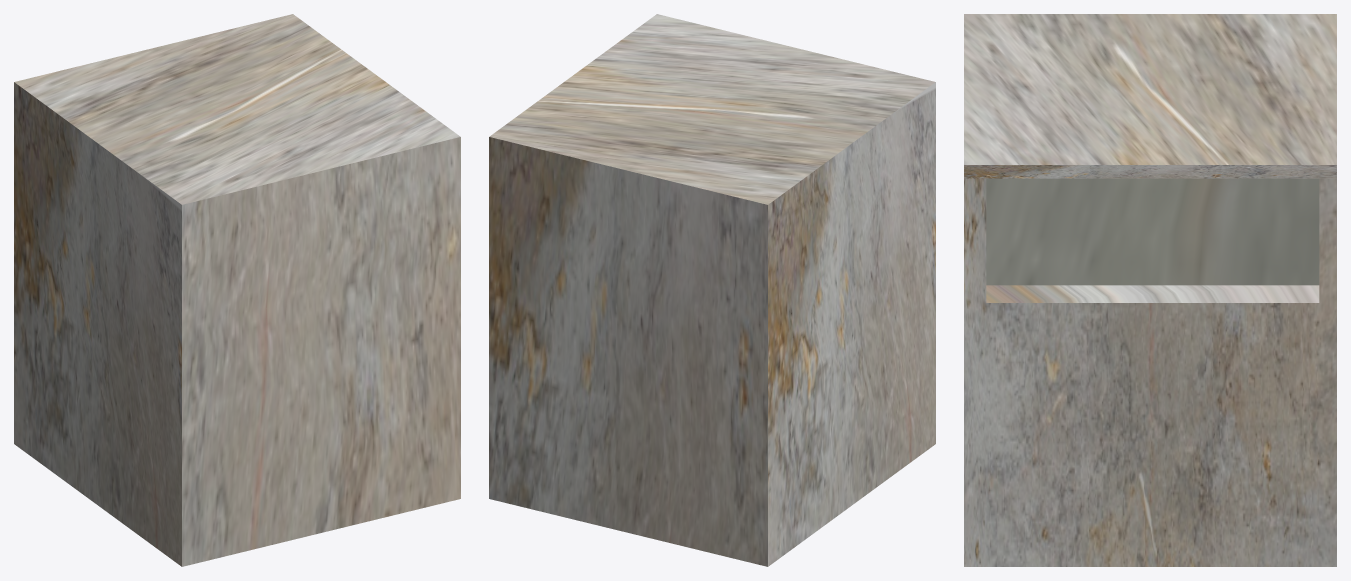
The model's file is grenade_pit.fbx.
3 views of the same model, side by side, from view 1: azimuth 30°, elevation 25°; view 2: azimuth 150°, elevation 25°; view 3: azimuth 270°, elevation 25° (orthographic). The views are drawn at different scales.
Parts seen in each view (by area): view 1: grenade_pit; view 2: grenade_pit; view 3: grenade_pit.
Boxes of the visible parts, left/top/right/bottom form: grenade_pit: left=14, top=14, right=460, bottom=566; grenade_pit: left=489, top=14, right=935, bottom=566; grenade_pit: left=964, top=14, right=1336, bottom=566.
Bounding box in the file's own units: 3230 × 4008 × 3368.
